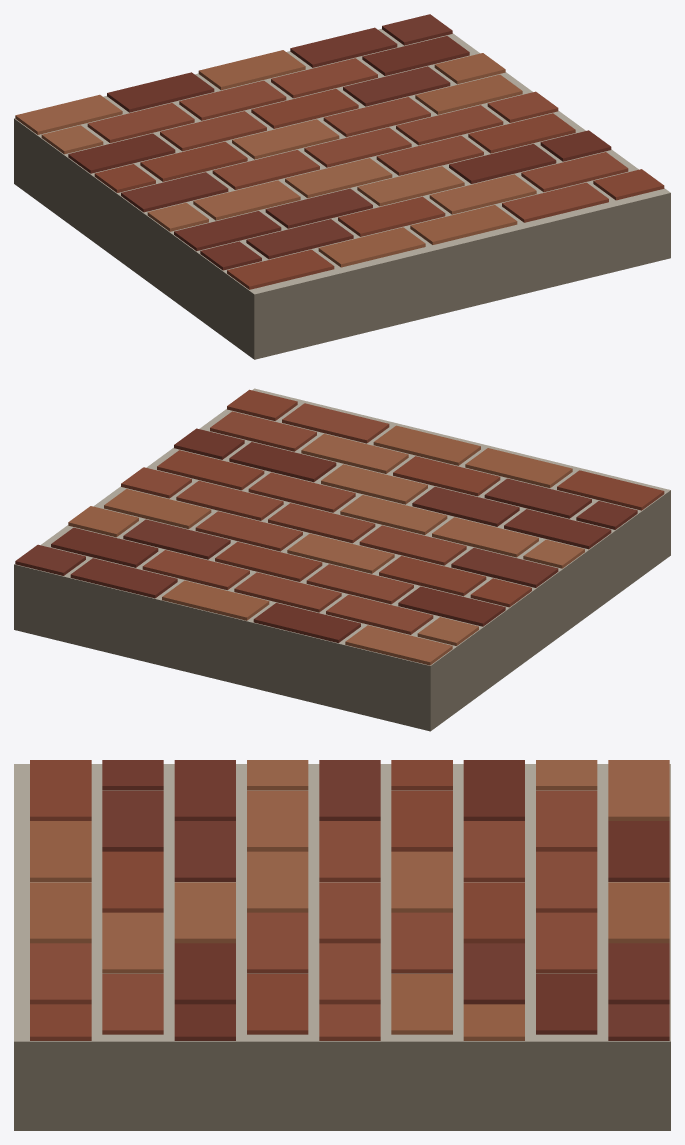
Rendered from t_square.glb.
3 renders of one model, top to bottom at view 1: azimuth 30°, elevation 25°; view 2: azimuth 150°, elevation 25°; view 3: azimuth 270°, elevation 25°, orthographic. The views are drawn at different scales.
Parts seen in each view (by area): view 1: t_square; view 2: t_square; view 3: t_square.
Boxes of the visible parts, left/top/right/bottom form: t_square: left=14, top=14, right=670, bottom=359; t_square: left=14, top=388, right=670, bottom=731; t_square: left=14, top=760, right=670, bottom=1130.
Size of the model in its own units: 2 by 0.315 by 2.
